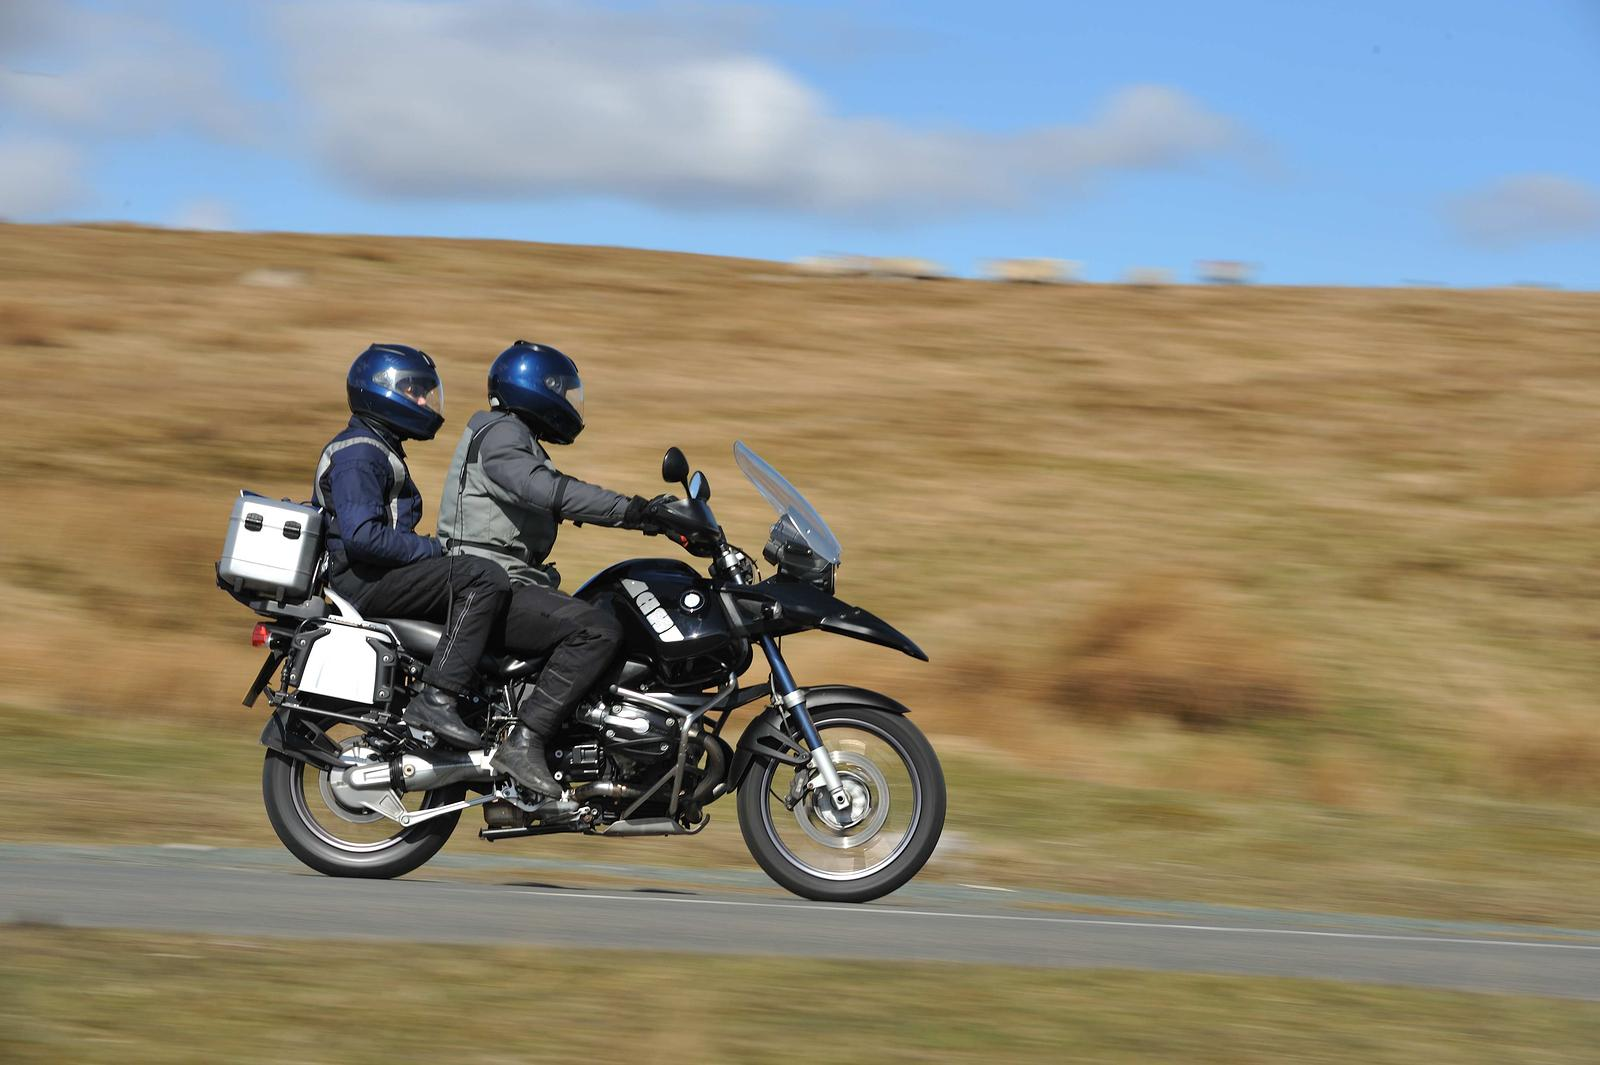Motorcycle: (190, 450, 1025, 915)
